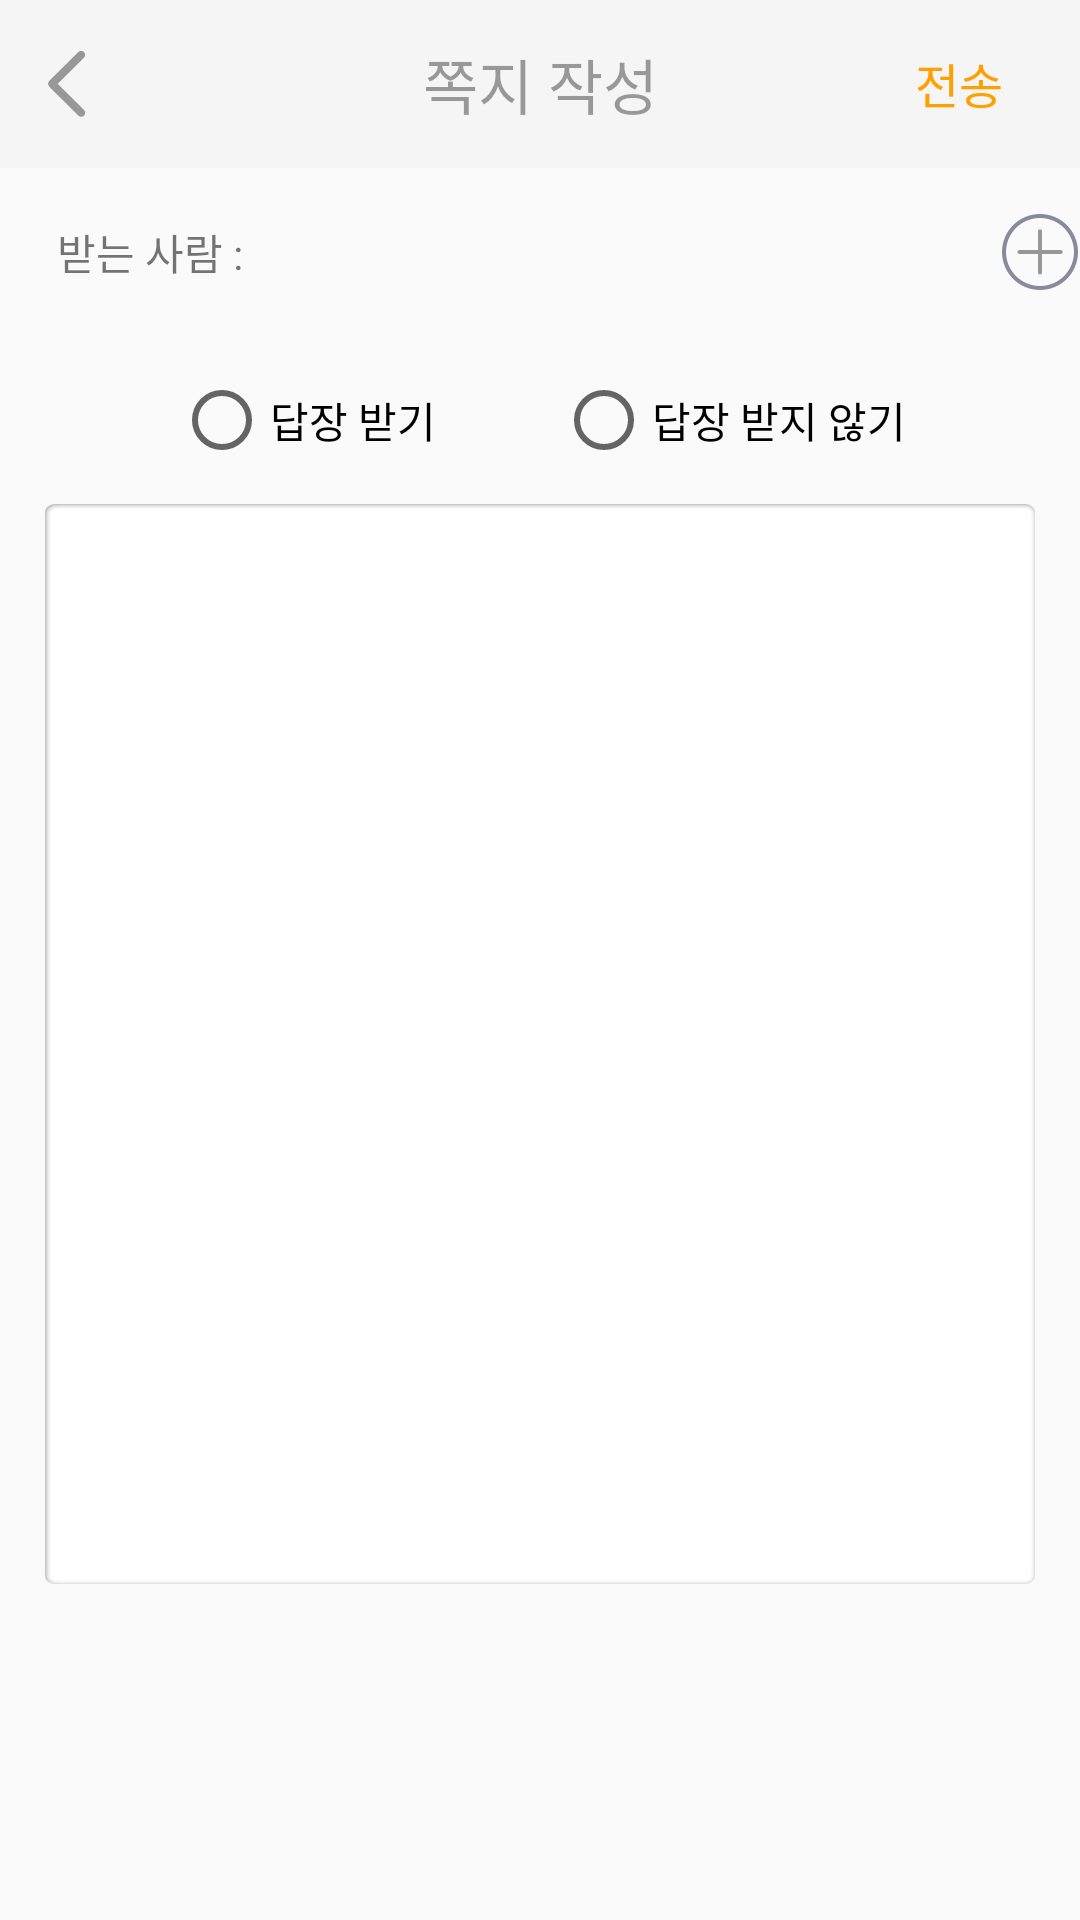

Icon bounding boxes for this 1080*1920 phone screenshot, format (x1, y1, x2, y2):
back: (48, 51, 85, 117)
